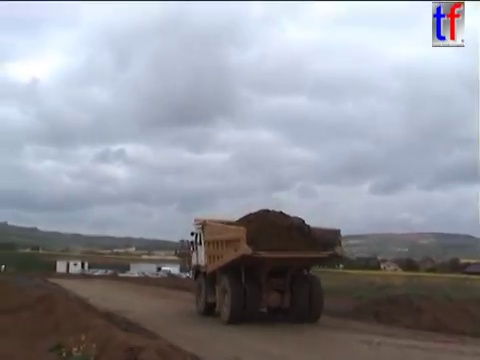truck: (185, 215, 346, 327)
